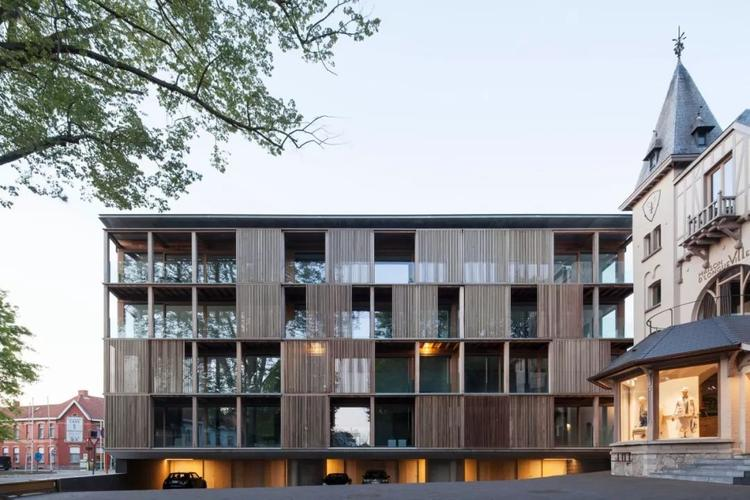buildings: (69, 186, 690, 470), (608, 60, 730, 364)
